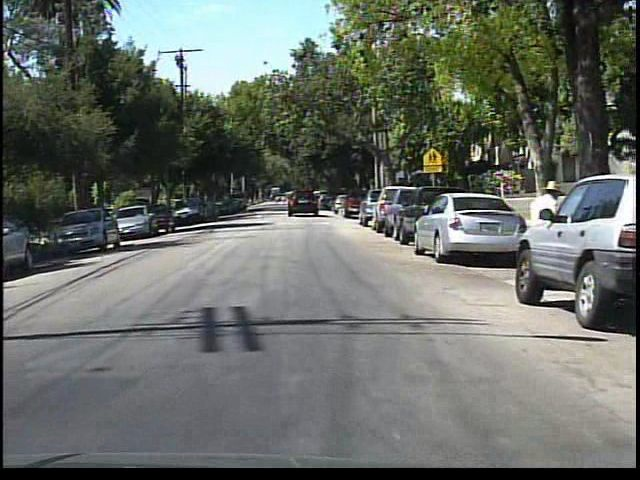person: (523, 177, 566, 300)
